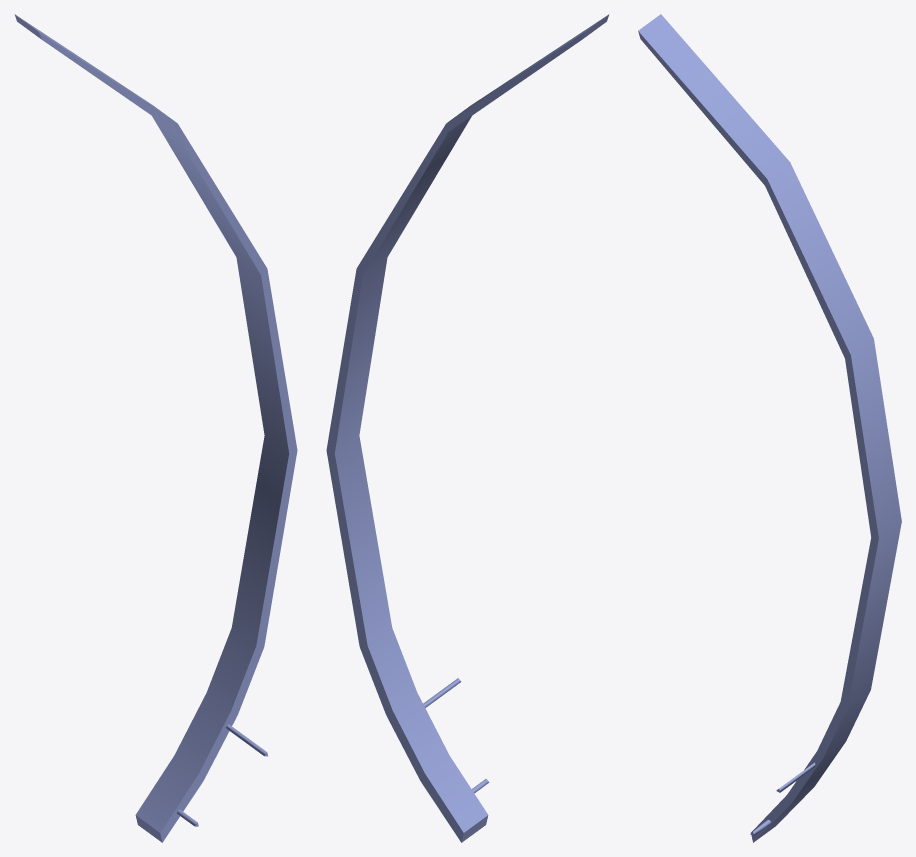
Rendered from Copie de Copie de Copie de Copie de Pi_X2_00e8_X0_ce roue Ass 10^Horloge Comtoise Verge - Sonnerie.obj.
The picture shows the model from 3 angles, left to right: view 1: azimuth 30°, elevation 25°; view 2: azimuth 150°, elevation 25°; view 3: azimuth 330°, elevation 25°; orthographic projection. The views are drawn at different scales.
Parts seen in each view (by area): view 1: Face_4, Face_10, Face_3; view 2: Face_4, Face_9, Face_3; view 3: Face_6, Face_10, Face_7.
Boxes of the visible parts, left/top/right/bottom form: Face_4: left=152, top=116, right=289, bottom=645; Face_10: left=39, top=32, right=297, bottom=842; Face_3: left=136, top=628, right=255, bottom=832; Face_4: left=334, top=116, right=471, bottom=645; Face_9: left=326, top=32, right=584, bottom=842; Face_3: left=368, top=628, right=487, bottom=832; Face_6: left=638, top=14, right=901, bottom=706; Face_10: left=638, top=31, right=878, bottom=842; Face_7: left=754, top=690, right=870, bottom=841.
Bounding box in the file's own units: 0.0151 × 0.0471 × 0.0064.
